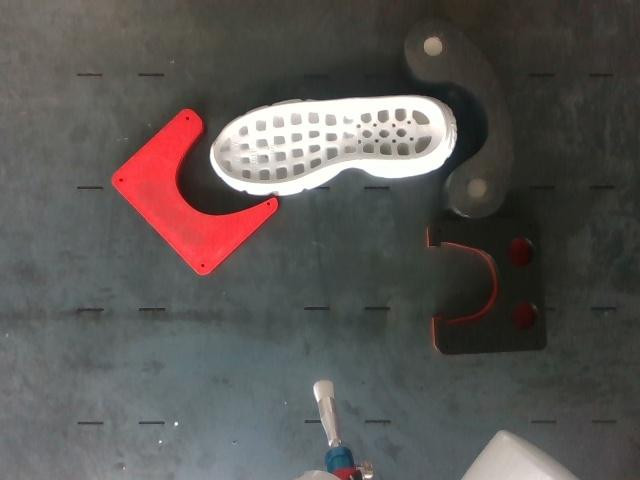shoes: (214, 98, 445, 184)
